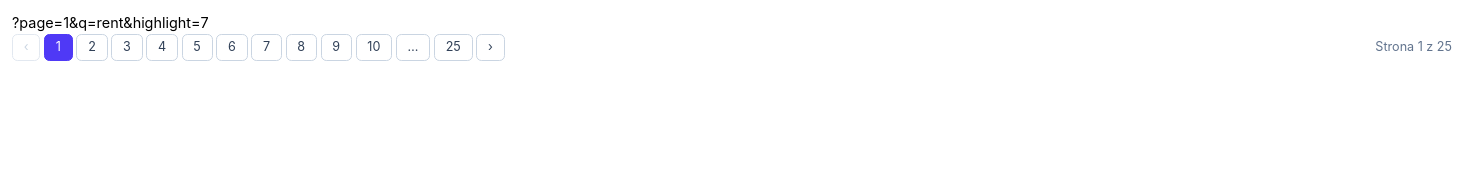
Scenario: Pagination › offers ten pages, the last page and a jump to the next group
Check: the link named "Strona 10" is shown, box left=356, top=34, right=392, bottom=61
Check: the link named "Strona 25" is shown, box left=434, top=34, right=473, bottom=61
Click the link named "Strona 11" at (413, 47), box left=396, top=34, right=430, bottom=61
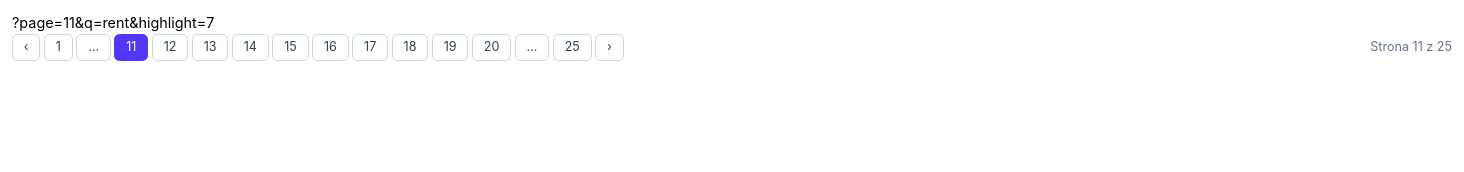
Check: the link named "Strona 21" reads "…", box left=515, top=34, right=549, bottom=61
Check: the text "?page=11&q=rent&highlight=7" is shown, box left=12, top=14, right=214, bottom=31
Check: the link named "Strona 20" is shown, box left=472, top=34, right=511, bottom=61
